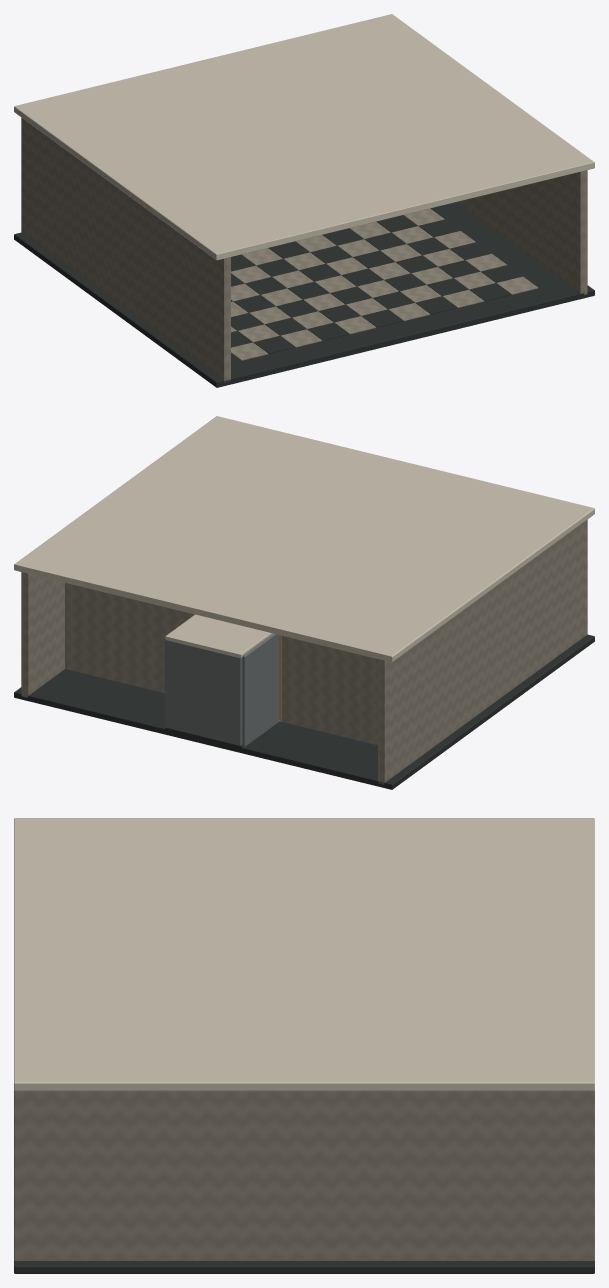
Rendered from architecture.glb.
The picture shows the model from 3 angles, top to bottom: view 1: azimuth 30°, elevation 25°; view 2: azimuth 150°, elevation 25°; view 3: azimuth 270°, elevation 25°; orthographic projection. The views are drawn at different scales.
Visible parts, largest first — view 1: ceiling, side-wall--1, floor, side-wall-1; view 2: ceiling, side-wall--1, floor, wing-1, wing--1, car-rear, side-wall-1, reveal--1, car-ceiling; view 3: ceiling, side-wall-1, floor.
Part boxes in pixels (<box>): ceiling: <box>14,14,594,260</box>; side-wall--1: <box>21,117,230,382</box>; floor: <box>14,202,594,387</box>; side-wall-1: <box>456,170,587,294</box>; ceiling: <box>14,416,594,662</box>; side-wall--1: <box>378,519,587,784</box>; floor: <box>14,634,594,789</box>; wing-1: <box>65,582,194,693</box>; wing--1: <box>281,635,377,745</box>; car-rear: <box>166,640,242,745</box>; side-wall-1: <box>21,572,64,697</box>; reveal--1: <box>242,633,278,746</box>; car-ceiling: <box>165,614,272,658</box>; ceiling: <box>14,818,594,1091</box>; side-wall-1: <box>14,1091,594,1260</box>; floor: <box>14,1261,594,1273</box>.
Size of the model in its own units: 14.02 by 4.73 by 13.
Materials: 5 (2 with a texture image).
